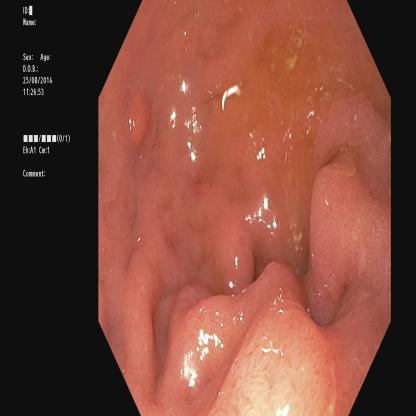Labels: (19, 4, 76, 188)
Polyps: (309, 154, 374, 314), (174, 279, 238, 403), (123, 96, 167, 160)
